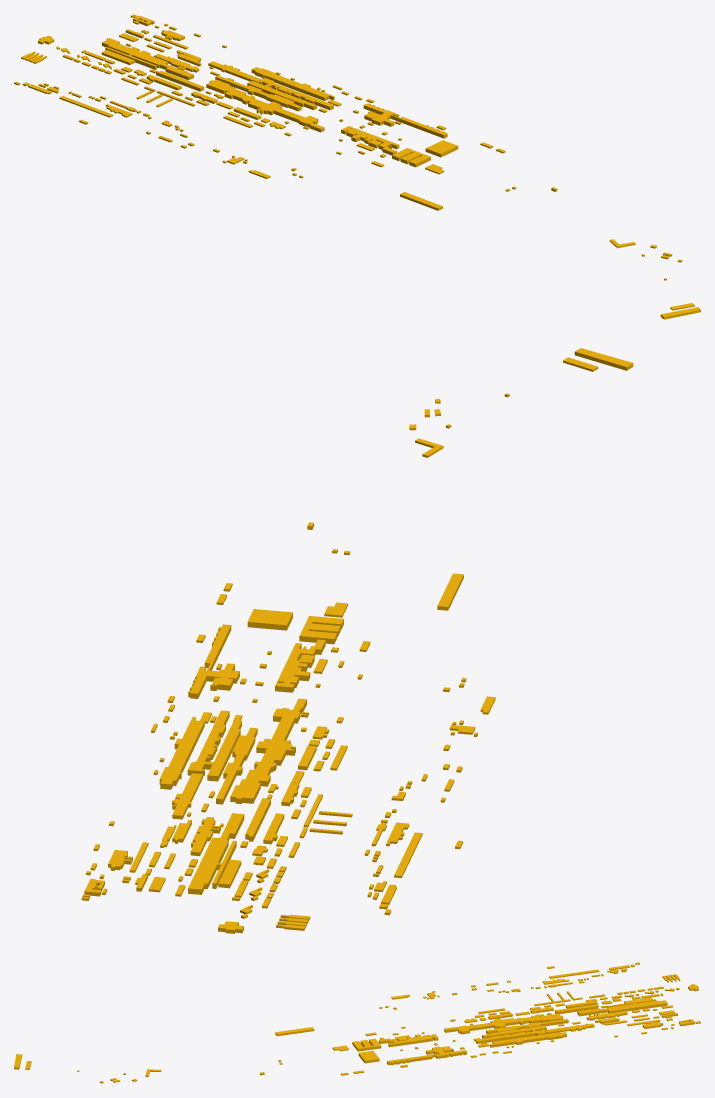
The picture shows the model from 3 angles, top to bottom: view 1: azimuth 30°, elevation 25°; view 2: azimuth 150°, elevation 25°; view 3: azimuth 270°, elevation 25°; orthographic projection. The views are drawn at different scales.
Parts seen in each view (by area): view 1: 1924.006; view 2: 1924.006; view 3: 1924.006.
Boxes of the visible parts, bbox=[...] form: 1924.006: bbox=[14, 14, 700, 319]; 1924.006: bbox=[81, 348, 633, 933]; 1924.006: bbox=[14, 962, 700, 1083].
Size of the model in its own units: 1475 by 15.25 by 3562.
